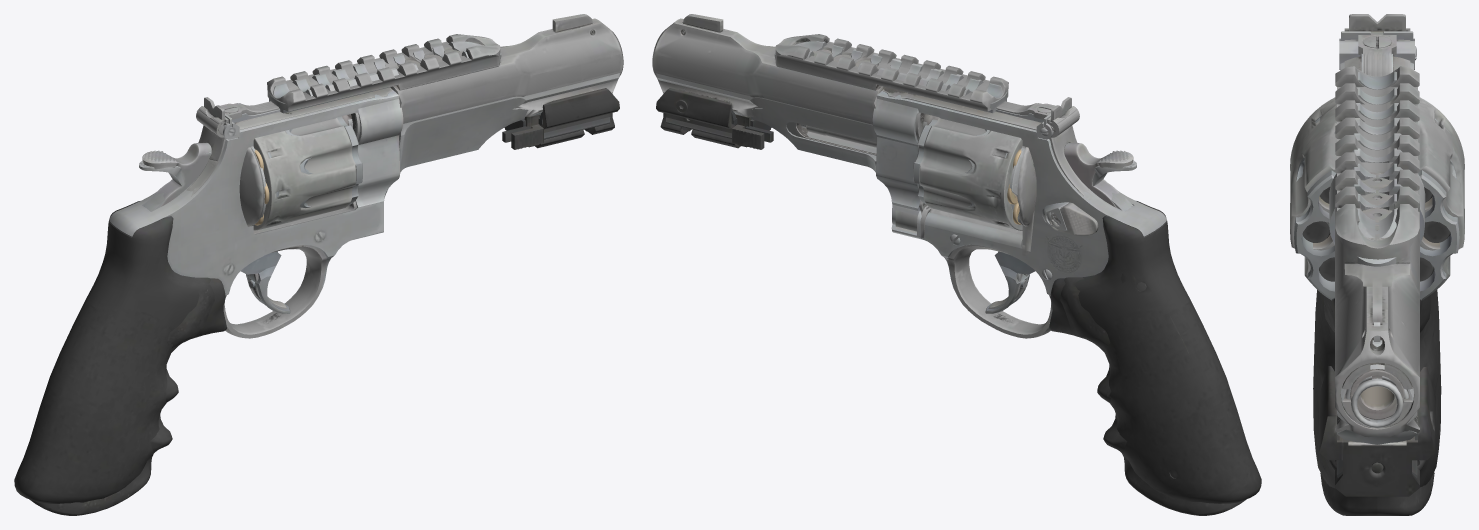
3 views of the same model, side by side, from view 1: azimuth 30°, elevation 25°; view 2: azimuth 150°, elevation 25°; view 3: azimuth 270°, elevation 25° (orthographic). The views are drawn at different scales.
Visible parts, largest first — view 1: weapon_pist_revolver.vmdl_c.body_legacy, weapon_pist_revolver.vmdl_c.body_hd; view 2: weapon_pist_revolver.vmdl_c.body_legacy, weapon_pist_revolver.vmdl_c.body_hd; view 3: weapon_pist_revolver.vmdl_c.body_hd, weapon_pist_revolver.vmdl_c.body_legacy.
Part boxes in pixels (x1,y1,x2,y2): weapon_pist_revolver.vmdl_c.body_legacy: [14, 22, 619, 503]; weapon_pist_revolver.vmdl_c.body_hd: [29, 14, 623, 515]; weapon_pist_revolver.vmdl_c.body_legacy: [656, 22, 1261, 503]; weapon_pist_revolver.vmdl_c.body_hd: [652, 14, 1246, 515]; weapon_pist_revolver.vmdl_c.body_hd: [1290, 14, 1464, 515]; weapon_pist_revolver.vmdl_c.body_legacy: [1294, 31, 1459, 488].
Bounding box in the file's own units: 12.18 × 7.17 × 1.96.
Materials: 2 (2 with a texture image).
